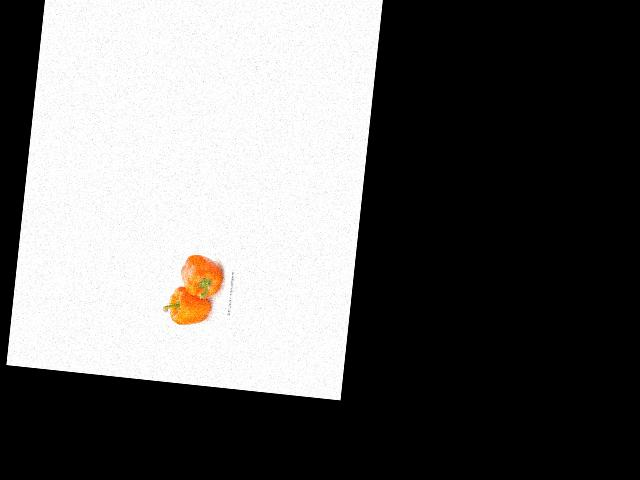bell_pepper: (176, 252, 229, 302)
